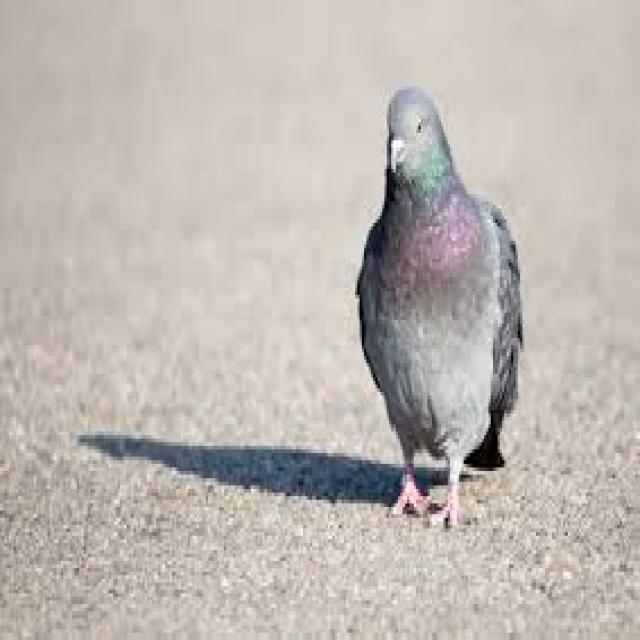pigeon: (354, 55, 530, 535)
